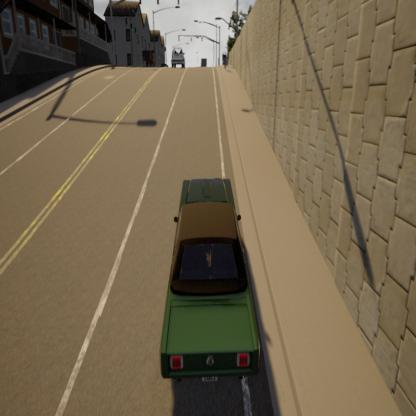Cars: (153, 137, 266, 416), (168, 32, 191, 82)
